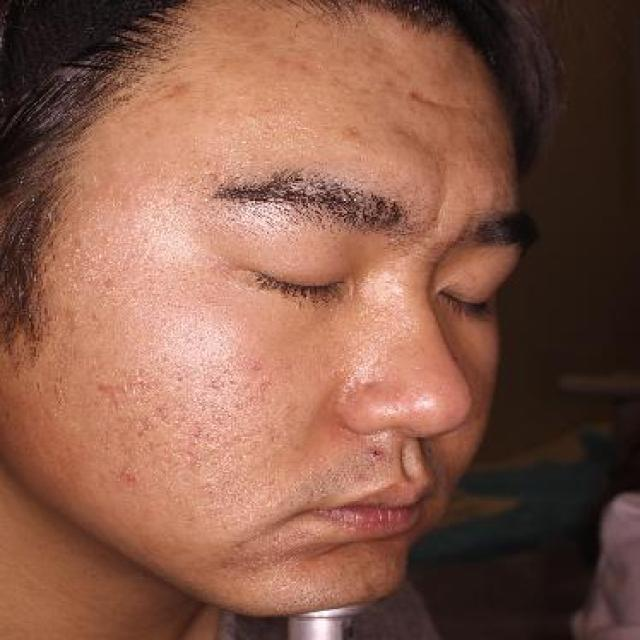dark spot: (82, 381, 175, 457), (190, 360, 291, 403), (58, 303, 111, 369), (264, 48, 324, 95), (376, 69, 432, 114), (106, 461, 158, 494), (98, 264, 132, 302), (154, 78, 204, 102), (334, 110, 369, 144), (356, 443, 387, 466)
